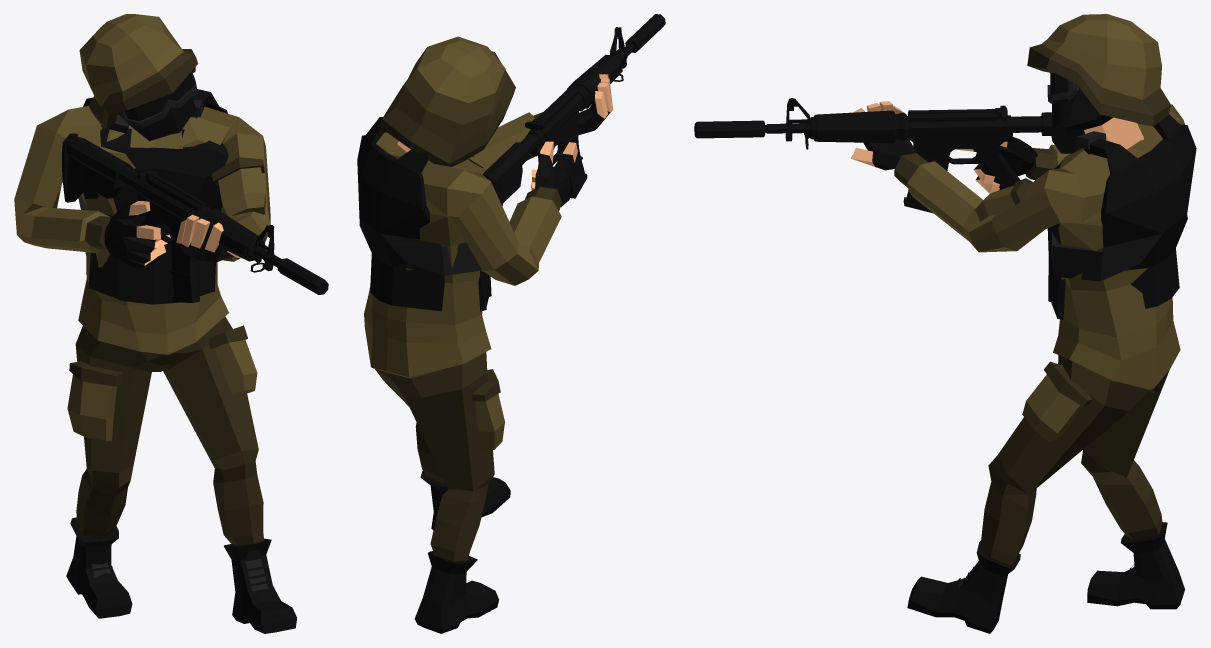
Rendered from shooting2.obj.
The picture shows the model from 3 angles, left to right: view 1: azimuth 30°, elevation 25°; view 2: azimuth 150°, elevation 25°; view 3: azimuth 270°, elevation 25°; orthographic projection. The views are drawn at different scales.
Parts seen in each view (by area): view 1: Soldat_Cylinder.001, M4_Cube.001, M4_Amo_Cube.007; view 2: Soldat_Cylinder.001, M4_Cube.001, M4_Amo_Cube.007; view 3: Soldat_Cylinder.001, M4_Cube.001.
Boxes of the visible parts, <box> form: Soldat_Cylinder.001: <box>14,14,296,633</box>; M4_Cube.001: <box>62,133,328,294</box>; M4_Amo_Cube.007: <box>170,245,199,302</box>; Soldat_Cylinder.001: <box>357,36,613,633</box>; M4_Cube.001: <box>483,14,665,206</box>; M4_Amo_Cube.007: <box>569,136,587,198</box>; Soldat_Cylinder.001: <box>851,14,1196,633</box>; M4_Cube.001: <box>694,98,1078,189</box>.
Bounding box in the file's own units: 11.65 × 31.4 × 24.07.
